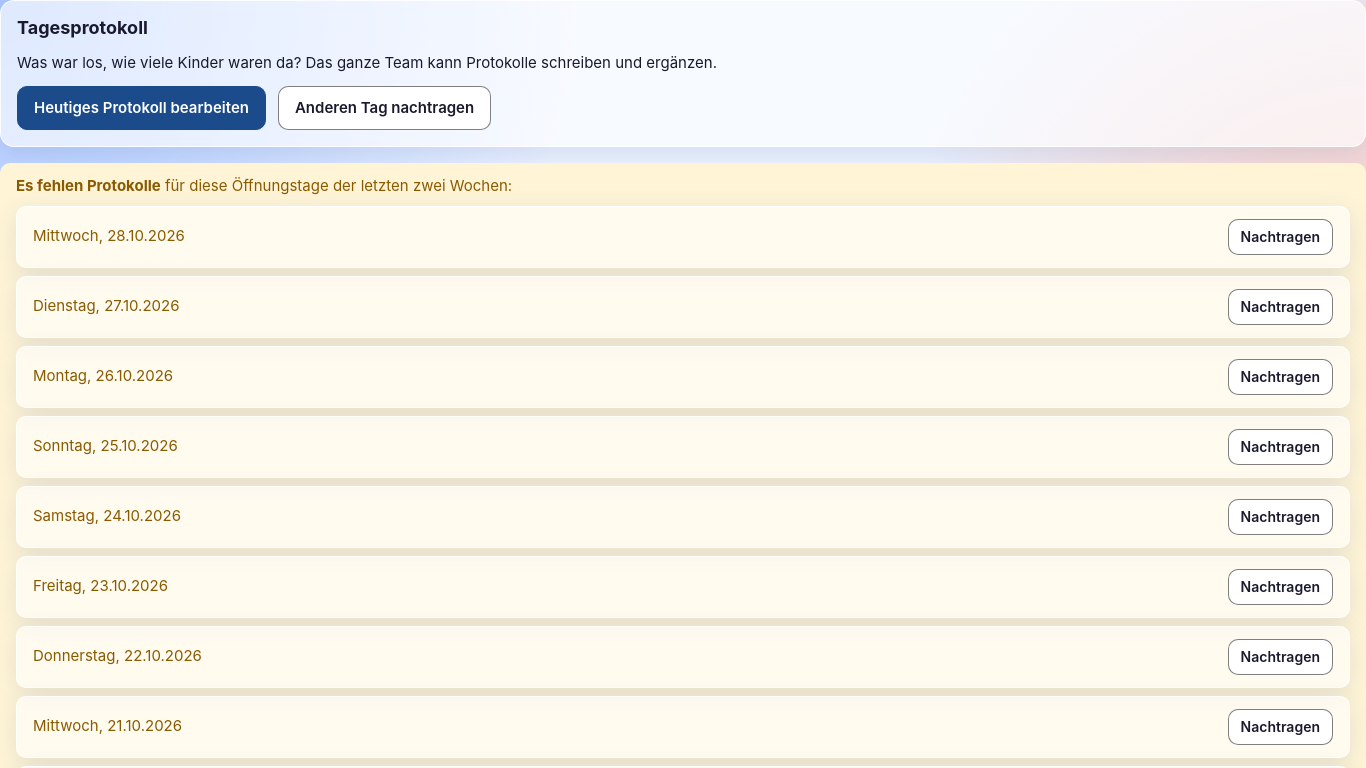
Scenario: Vorlagen je Wochentag (0028) › ein bestehendes Protokoll ohne Text: „Vorlage einfügen“
Click the button "Heutiges Protokoll bearbeiten".
click(142, 108)  # box [17,86,266,130]
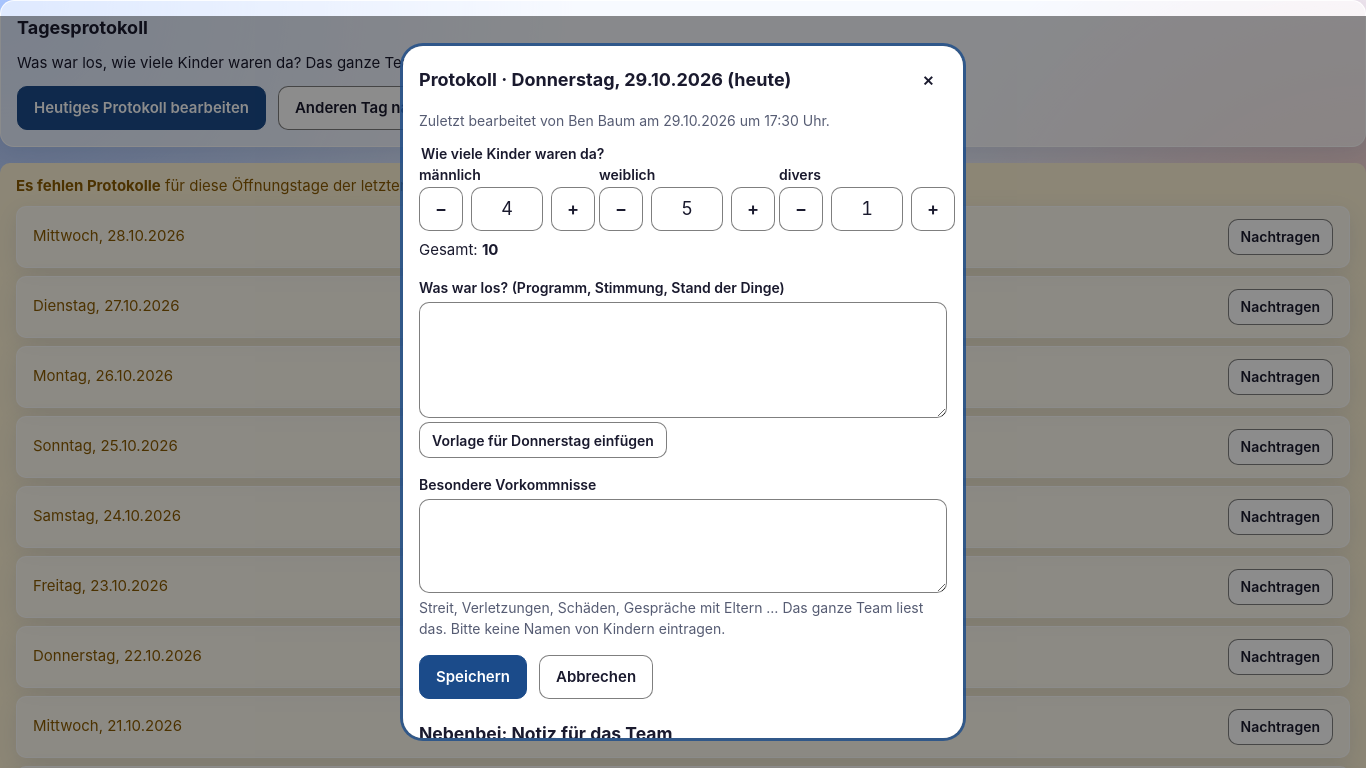
Check: the text box labelled "Was war los? (Programm, Stimmung, Stand der Dinge)" is empty, box [419,302,947,418]
Click the button "Vorlage für Donnerstag einfügen".
click(543, 440)  # box [419,422,667,458]
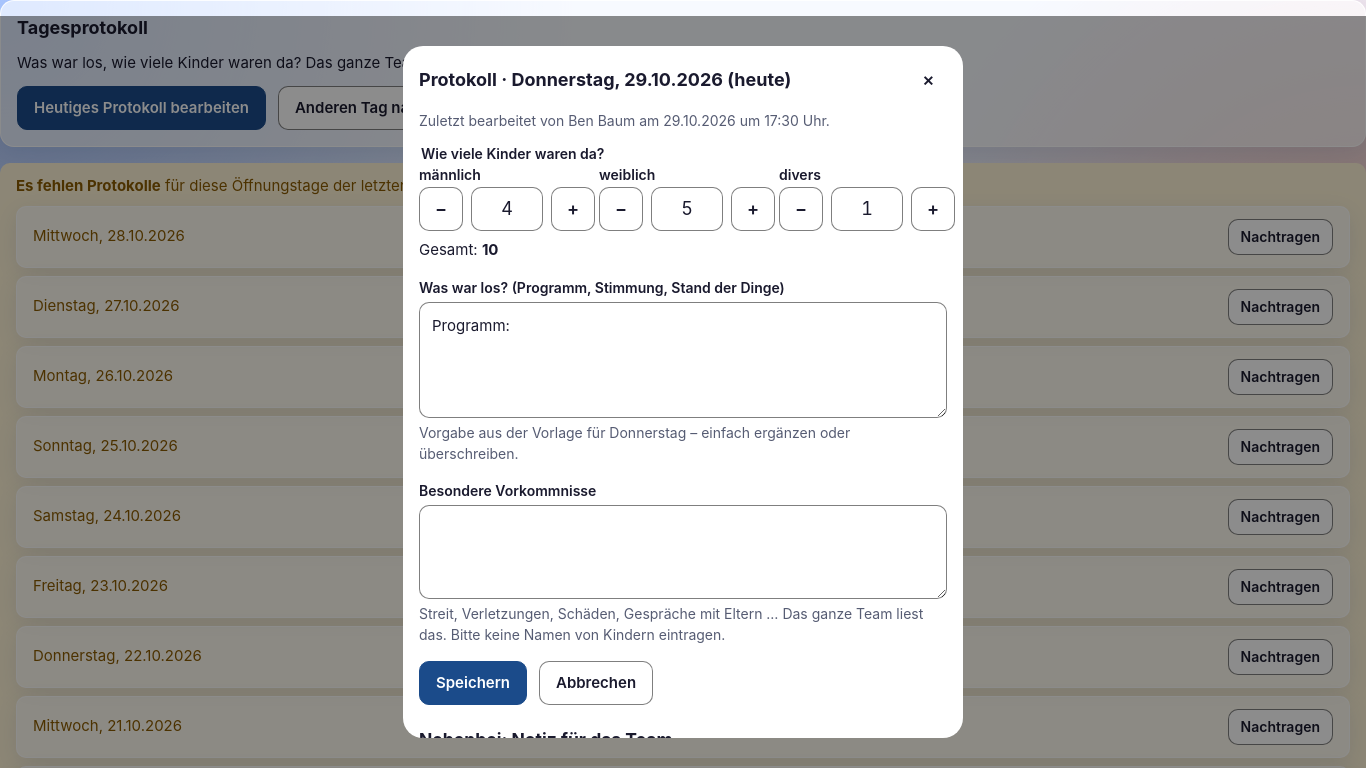
Check: the text box labelled "Was war los? (Programm, Stimmung, Stand der Dinge)" holds "Programm:", box [419,302,947,418]
